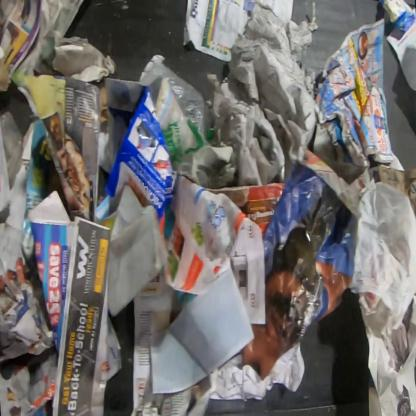cardboard: (51, 30, 118, 84), (376, 163, 416, 220)
soft_plastic: (138, 54, 217, 178)
